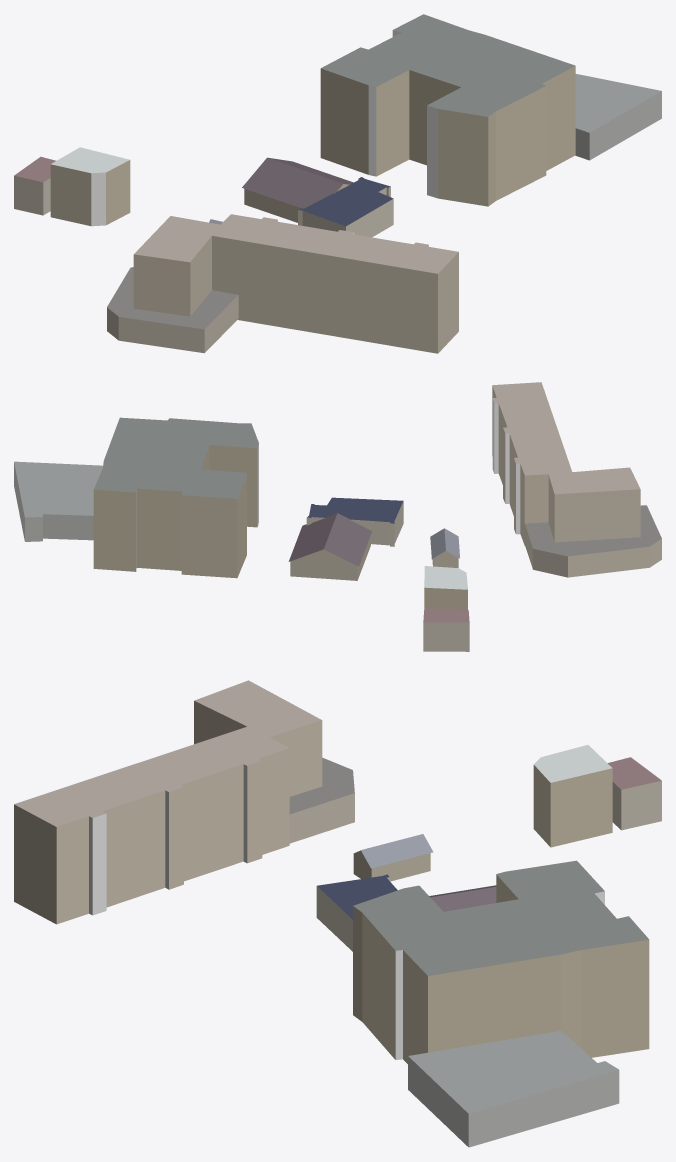
3 views of the same model, one above another, from view 1: azimuth 30°, elevation 25°; view 2: azimuth 150°, elevation 25°; view 3: azimuth 270°, elevation 25° (orthographic). The views are drawn at different scales.
Visible parts, largest first — view 1: tuile; view 2: tuile; view 3: tuile.
Part boxes in pixels (x1,y1,x2,y2): tuile: (14,14,661,353); tuile: (14,382,661,651); tuile: (14,680,661,1147).
Size of the model in its own units: 144 by 19.44 by 104.
